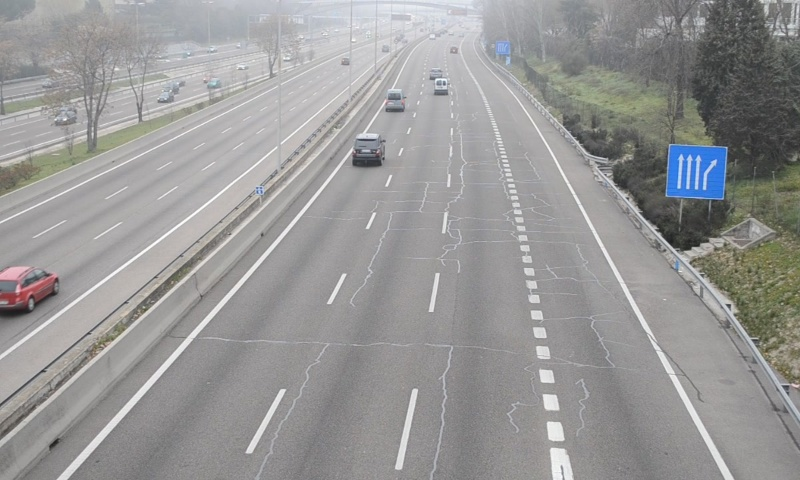car: (352, 134, 385, 163)
van: (385, 88, 406, 112)
